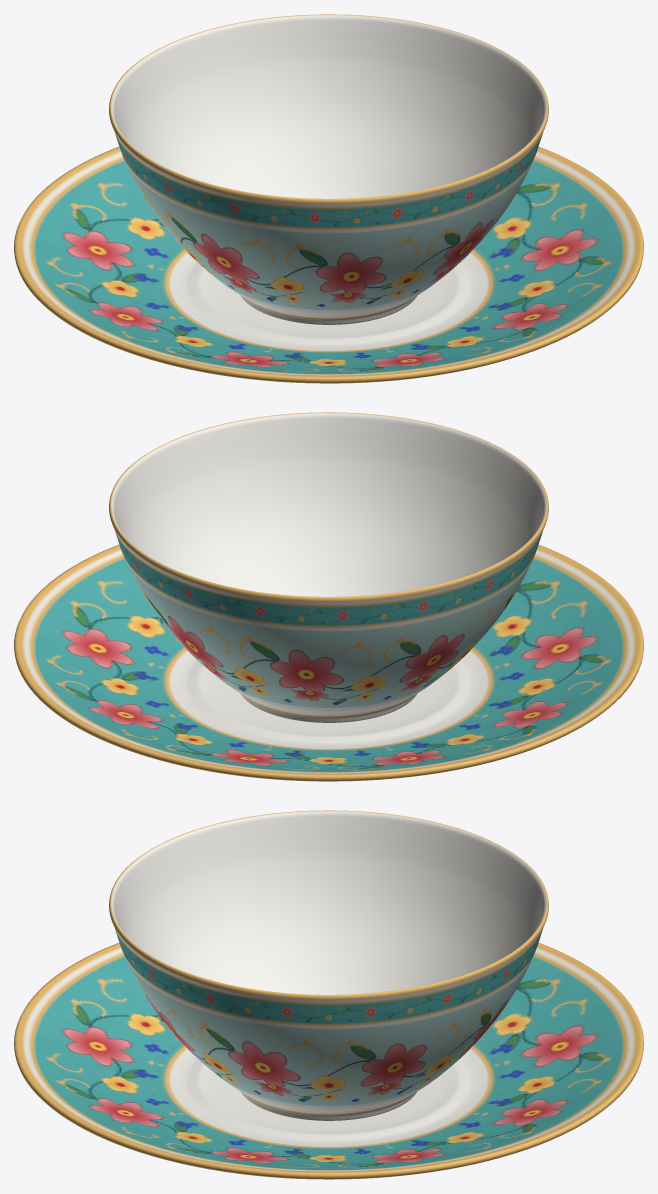
Rendered from imperial-rice-bowl.glb.
3 views of the same model, one above another, from view 1: azimuth 30°, elevation 25°; view 2: azimuth 150°, elevation 25°; view 3: azimuth 270°, elevation 25° (orthographic).
Parts seen in each view (by area): view 1: rice-bowl, saucer; view 2: rice-bowl, saucer; view 3: rice-bowl, saucer.
Part boxes in pixels (box(x1,y1,x2,y2)): rice-bowl: box(109, 14, 548, 324); saucer: box(14, 147, 643, 383); rice-bowl: box(109, 412, 548, 722); saucer: box(14, 545, 643, 781); rice-bowl: box(109, 810, 548, 1120); saucer: box(14, 943, 643, 1179).
Bounding box in the file's own units: 0.1506 × 0.0537 × 0.1506.
2 materials, 2 textured.
